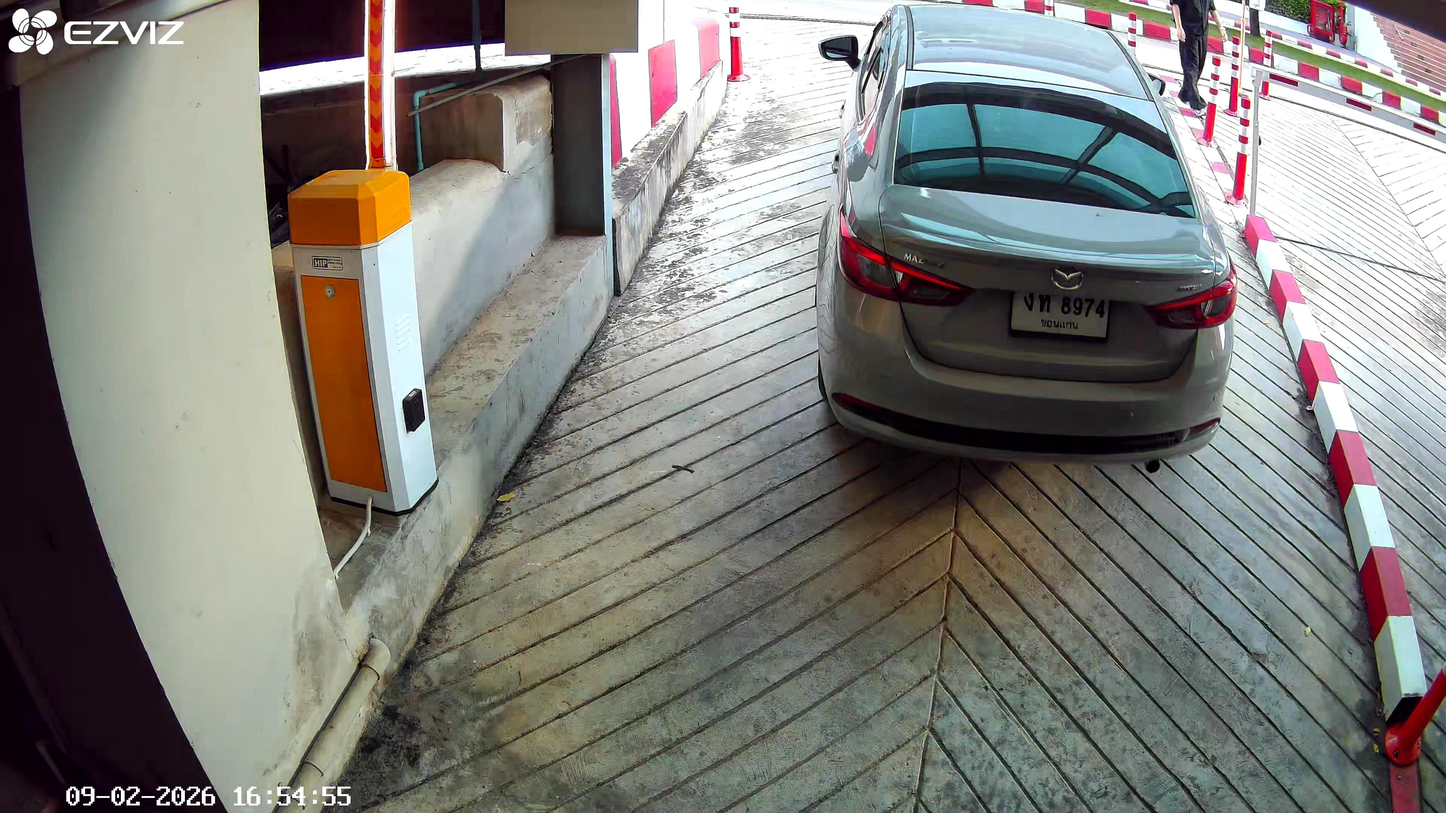car: (815, 7, 1238, 465)
license-plate: (1007, 285, 1112, 342)
